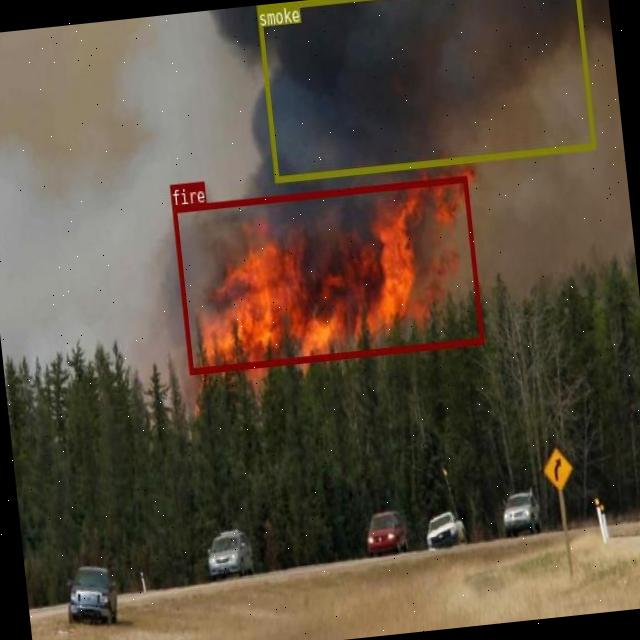fire: (171, 175, 483, 373)
smoke: (255, 0, 594, 182)
